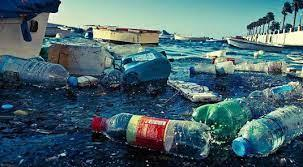Plastic: (87, 108, 215, 164), (227, 106, 303, 167), (0, 53, 83, 97)
